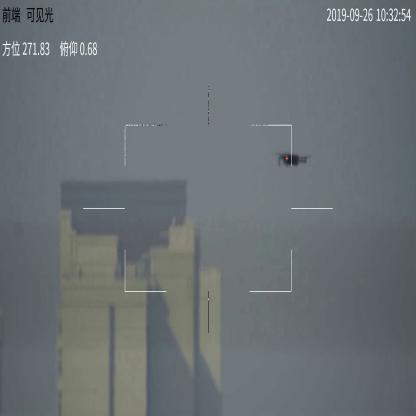uav: (267, 149, 309, 168)
